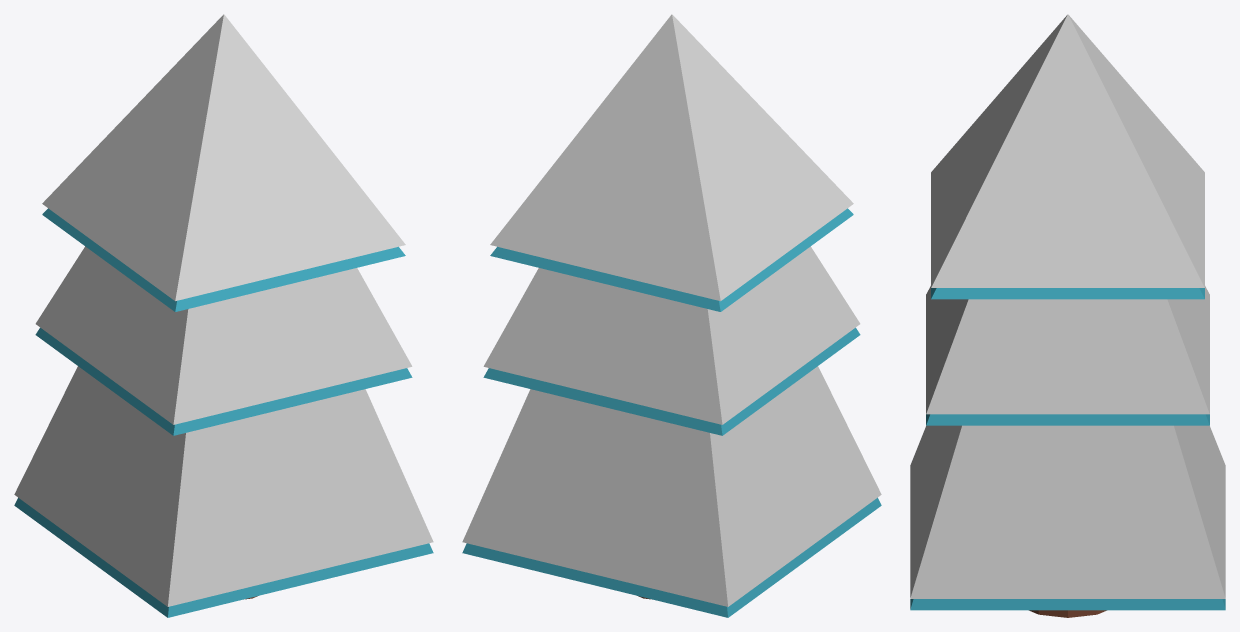
The model's file is Tree_18_winter_blue_mat.fbx.
The picture shows the model from 3 angles, left to right: view 1: azimuth 30°, elevation 25°; view 2: azimuth 150°, elevation 25°; view 3: azimuth 270°, elevation 25°; orthographic projection. The views are drawn at different scales.
Parts seen in each view (by area): view 1: Tree_18_winter_blue_mat; view 2: Tree_18_winter_blue_mat; view 3: Tree_18_winter_blue_mat.
Part boxes in pixels (left/top/right/bottom): Tree_18_winter_blue_mat: left=14, top=14, right=433, bottom=617; Tree_18_winter_blue_mat: left=462, top=14, right=881, bottom=617; Tree_18_winter_blue_mat: left=910, top=14, right=1225, bottom=617.
Size of the model in its own units: 95.96 by 194 by 95.96.
